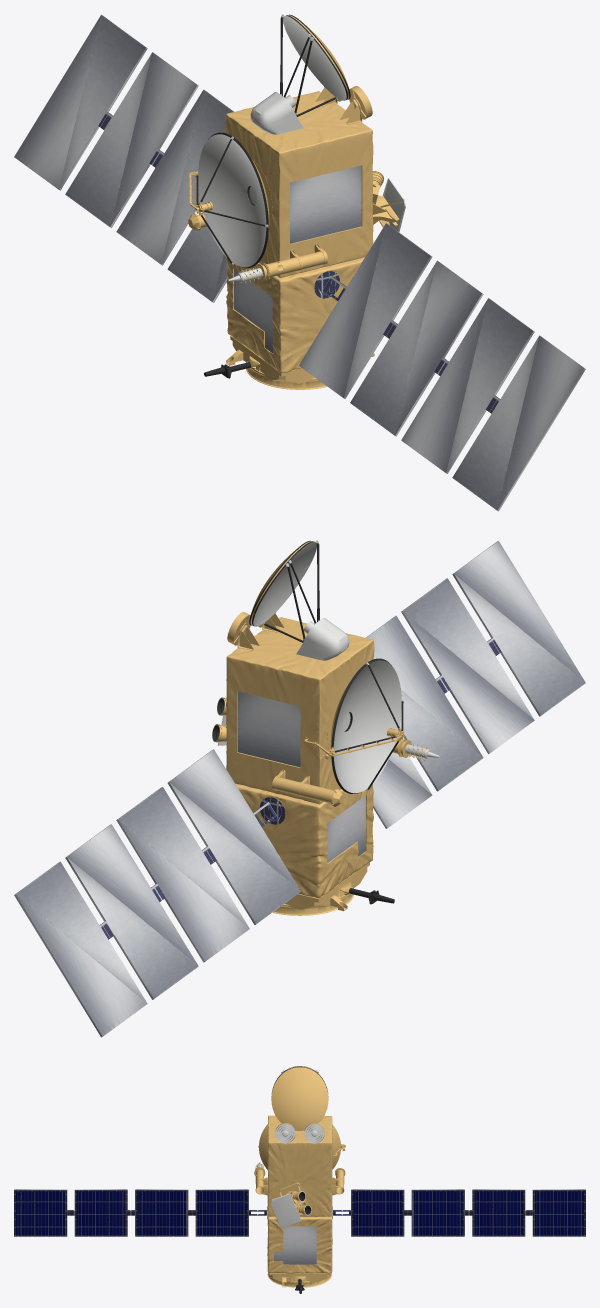
File: jason-1.glb
3 renders of one model, top to bottom at view 1: azimuth 30°, elevation 25°; view 2: azimuth 150°, elevation 25°; view 3: azimuth 270°, elevation 25°, orthographic. The views are drawn at different scales.
Parts seen in each view (by area): view 1: Jason-1_vFINAL [Dark Grey], Jason-1_vFINAL [Dark Gold Surfaces], Jason-1_vFINAL [White Surfaces], Jason-1_vFINAL [Black Surfaces]; view 2: Jason-1_vFINAL [Dark Grey], Jason-1_vFINAL [Dark Gold Surfaces], Jason-1_vFINAL [White Surfaces], Jason-1_vFINAL [Black Surfaces]; view 3: Jason-1_vFINAL [Solar Panels], Jason-1_vFINAL [Dark Gold Surfaces], Jason-1_vFINAL [Black Surfaces], Jason-1_vFINAL [Dark Grey], Jason-1_vFINAL [White Surfaces].
Boxes of the visible parts, x1=… form: Jason-1_vFINAL [Dark Grey]: x1=14, y1=14, x2=585, y2=511; Jason-1_vFINAL [Dark Gold Surfaces]: x1=188, y1=15, x2=401, y2=389; Jason-1_vFINAL [White Surfaces]: x1=198, y1=15, x2=405, y2=282; Jason-1_vFINAL [Black Surfaces]: x1=98, y1=14, x2=500, y2=413; Jason-1_vFINAL [Dark Grey]: x1=14, y1=540, x2=585, y2=1037; Jason-1_vFINAL [Dark Gold Surfaces]: x1=216, y1=541, x2=426, y2=915; Jason-1_vFINAL [White Surfaces]: x1=212, y1=541, x2=439, y2=793; Jason-1_vFINAL [Black Surfaces]: x1=99, y1=540, x2=501, y2=939; Jason-1_vFINAL [Solar Panels]: x1=16, y1=1191, x2=583, y2=1235; Jason-1_vFINAL [Dark Gold Surfaces]: x1=254, y1=1066, x2=345, y2=1287; Jason-1_vFINAL [Black Surfaces]: x1=14, y1=1066, x2=585, y2=1293; Jason-1_vFINAL [Dark Grey]: x1=14, y1=1189, x2=585, y2=1264; Jason-1_vFINAL [White Surfaces]: x1=257, y1=1123, x2=324, y2=1227.
Size of the model in its own units: 1.52 by 2.53 by 6.34.
Materials: 7 (3 with a texture image).
